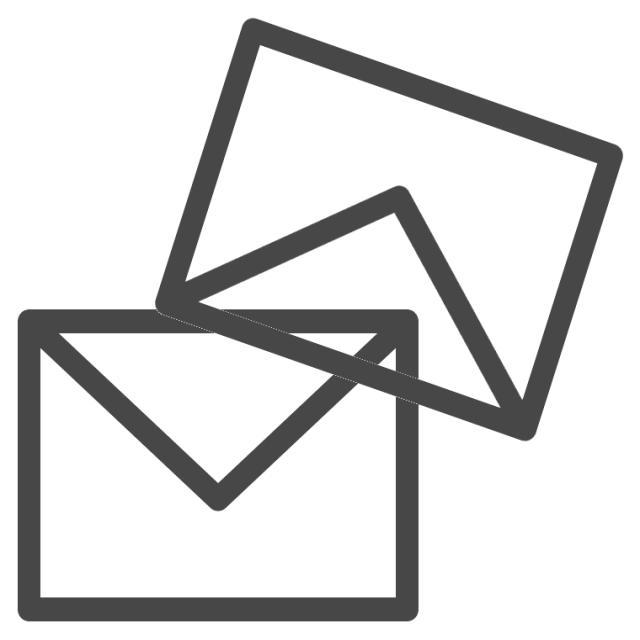letter: (152, 11, 632, 452), (9, 294, 438, 632)
